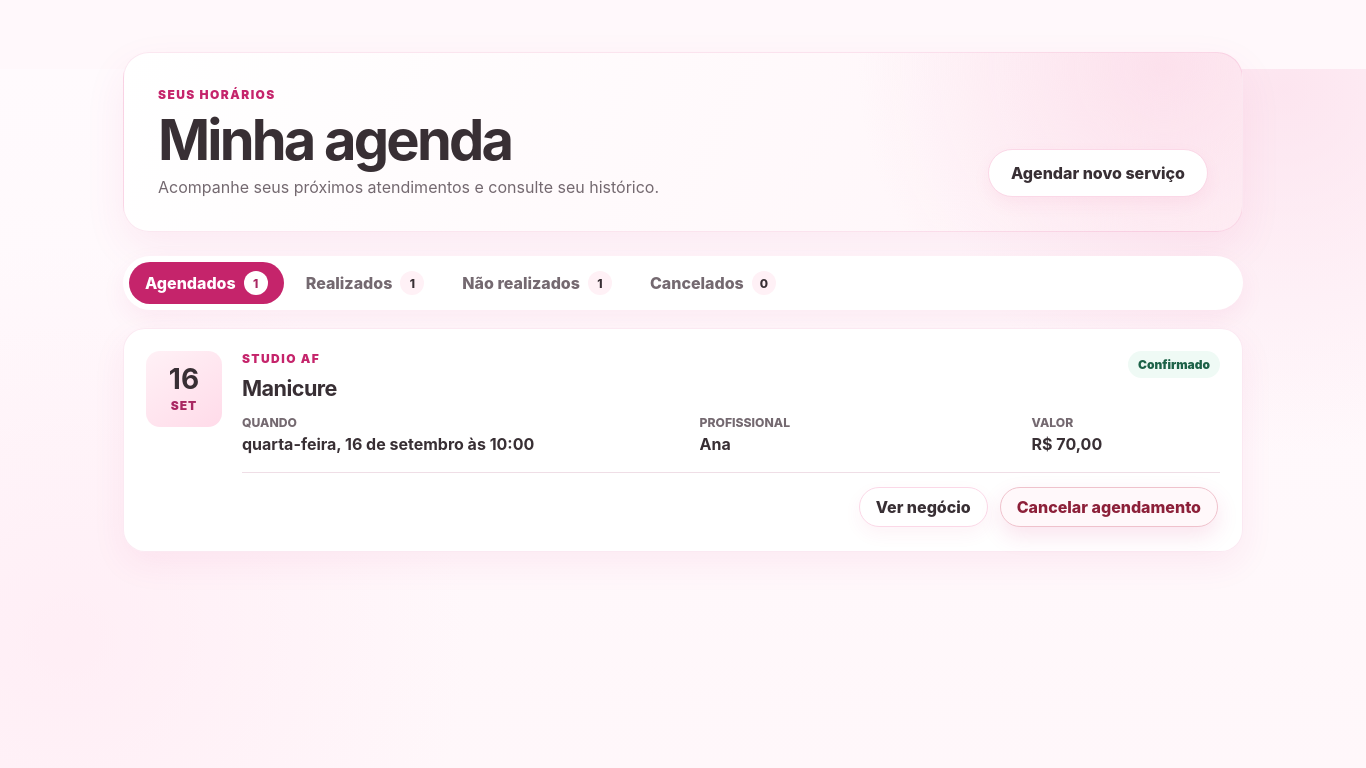
histórico real da cliente › permite avaliar uma única vez um atendimento realizado
Click the tab "Realizados 1" at (365, 283), box top-left (290, 262), bottom-right (440, 304)
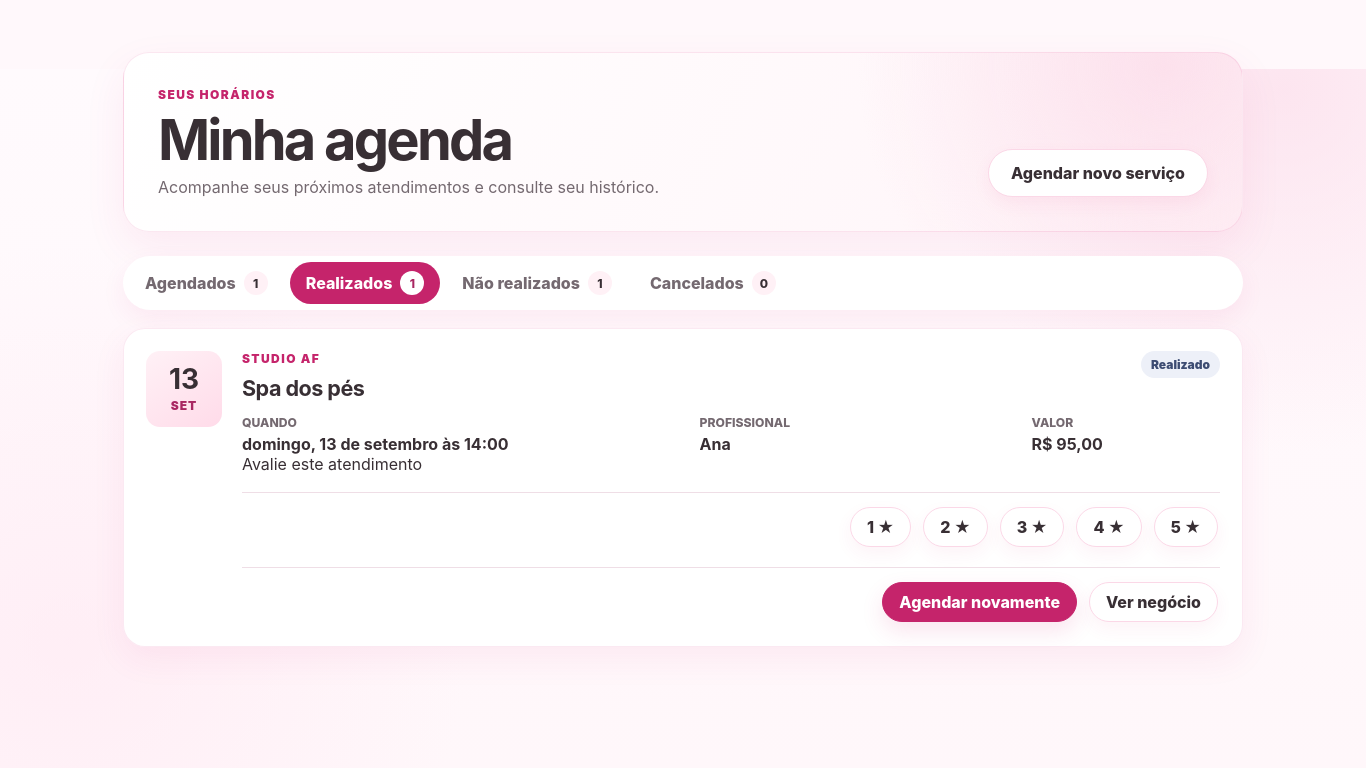
Click the button named "Avaliar com 5 estrelas" at (1186, 527), box top-left (1154, 507), bottom-right (1218, 547)
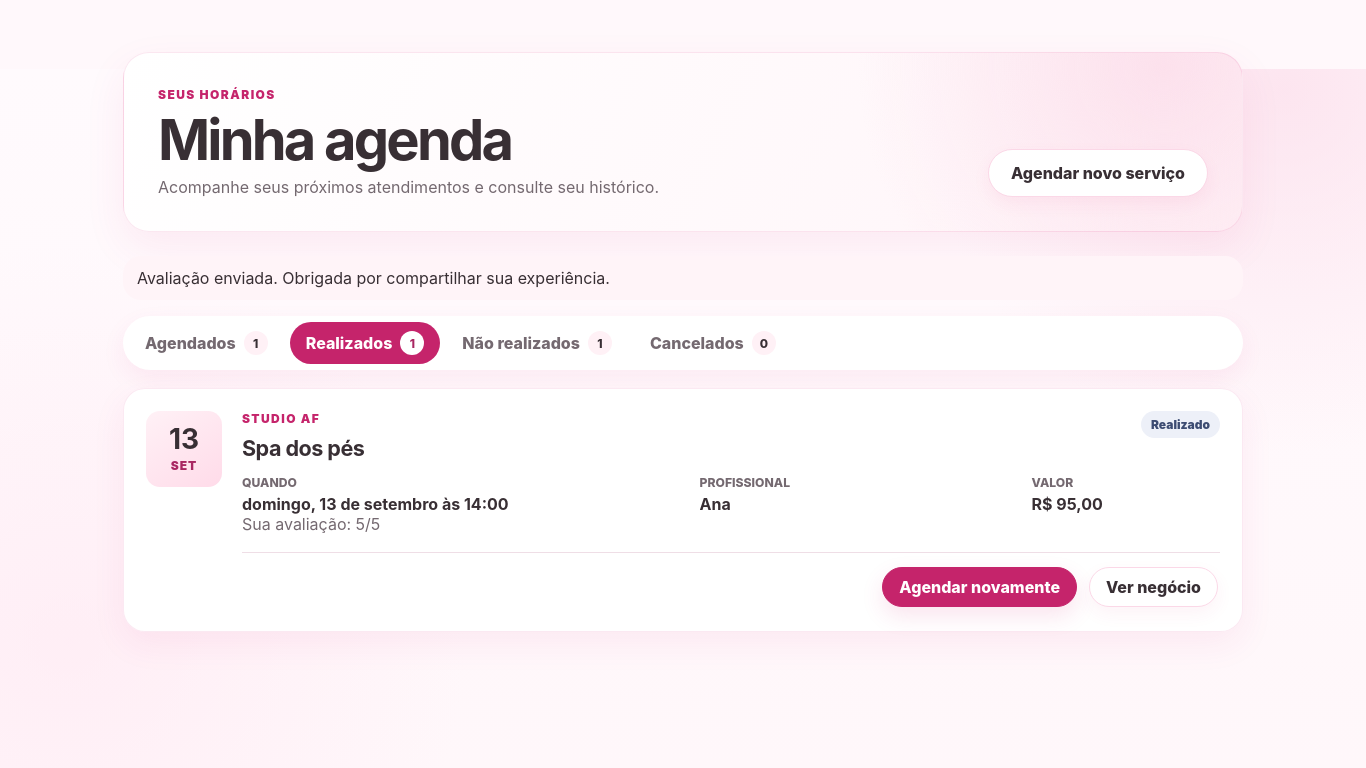
Check: the text "Sua avaliação: 5/5" is shown, box top-left (242, 514), bottom-right (380, 534)
